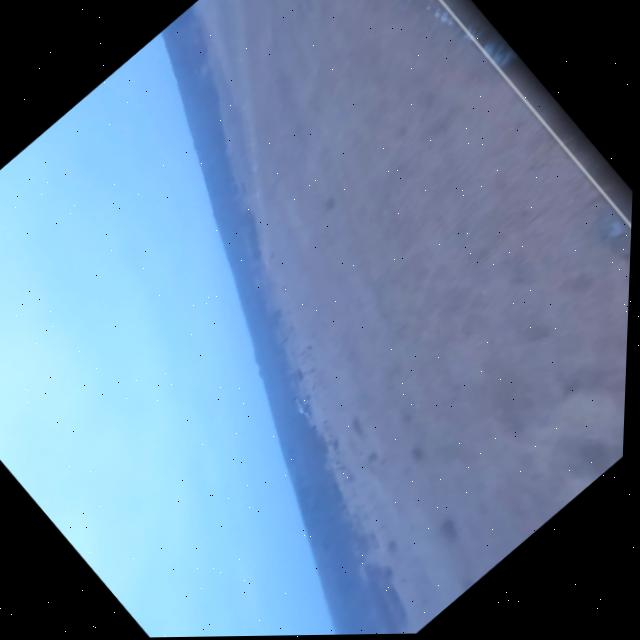planedrone: (284, 389, 318, 424)
